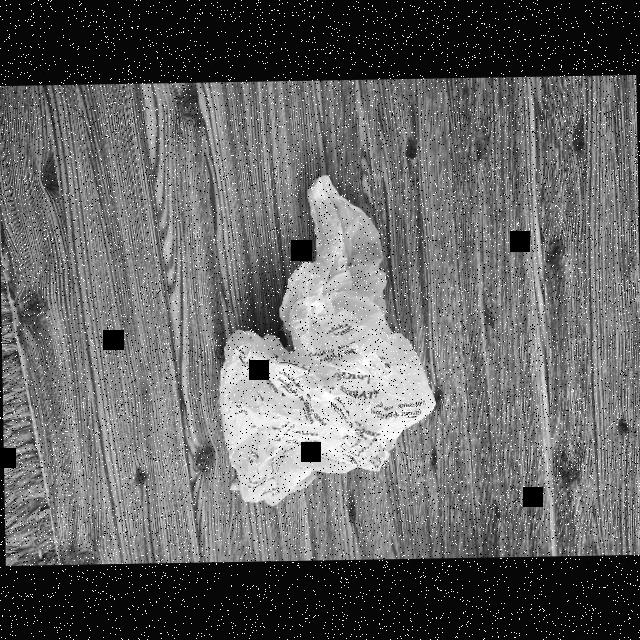plastic_bag: (200, 172, 445, 520)
